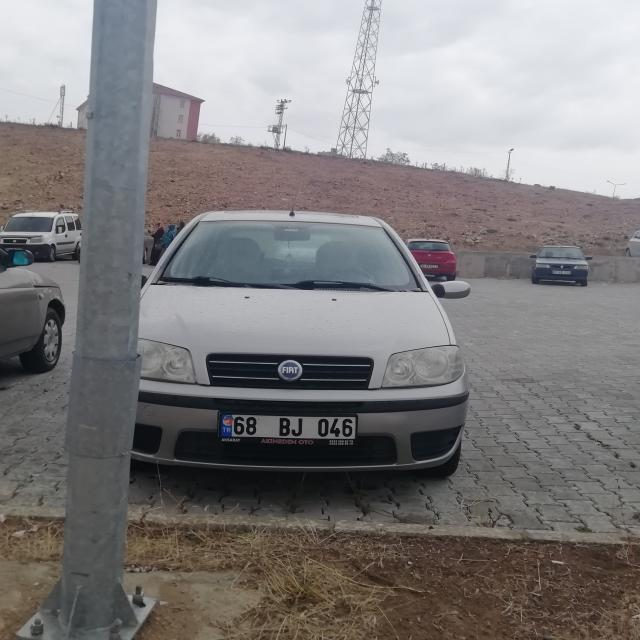license_plate: (222, 413, 358, 443)
